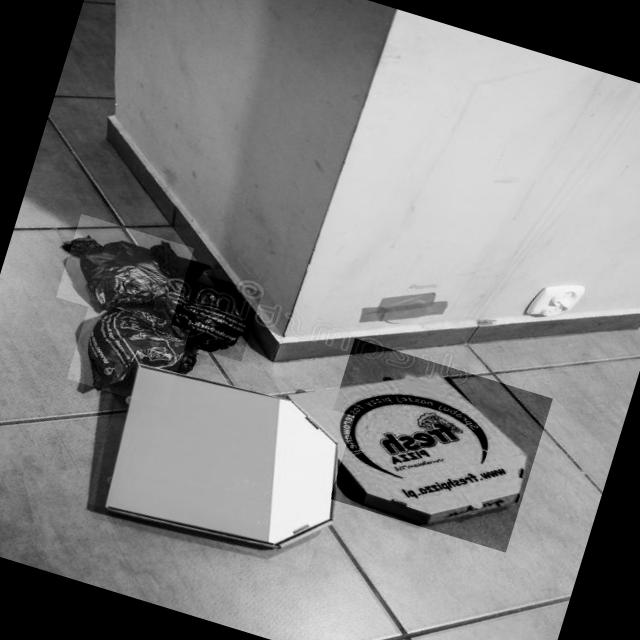Food Carton: (84, 348, 354, 570), (307, 338, 552, 552)
Garbage bag: (55, 214, 194, 330), (66, 300, 189, 409), (150, 264, 262, 362)
